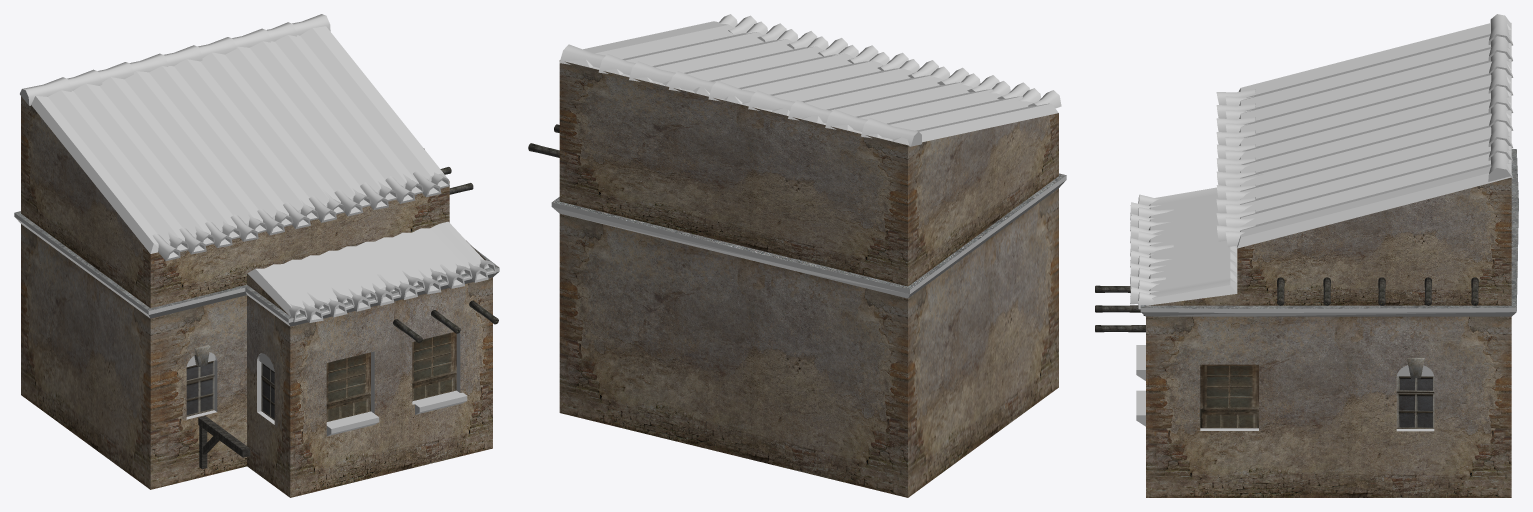
The model's file is Building_Roof_02.fbx.
The picture shows the model from 3 angles, left to right: view 1: azimuth 30°, elevation 25°; view 2: azimuth 150°, elevation 25°; view 3: azimuth 270°, elevation 25°; orthographic projection. The views are drawn at different scales.
Visible parts, largest first — view 1: Building_Roof_02; view 2: Building_Roof_02; view 3: Building_Roof_02.
Part boxes in pixels (bbox=[...]): Building_Roof_02: bbox=[14, 14, 499, 497]; Building_Roof_02: bbox=[528, 14, 1066, 497]; Building_Roof_02: bbox=[1095, 14, 1518, 497].
Size of the model in its own units: 579 by 498 by 580.
